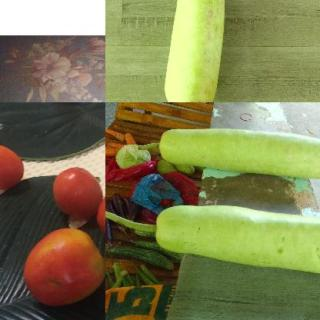Tomat: (22, 223, 105, 306), (48, 162, 106, 235), (1, 142, 29, 191)
